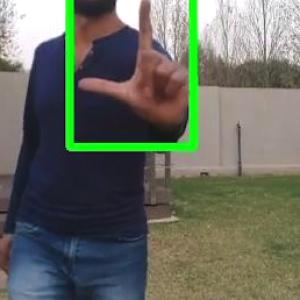land_hand: (74, 0, 195, 133)
